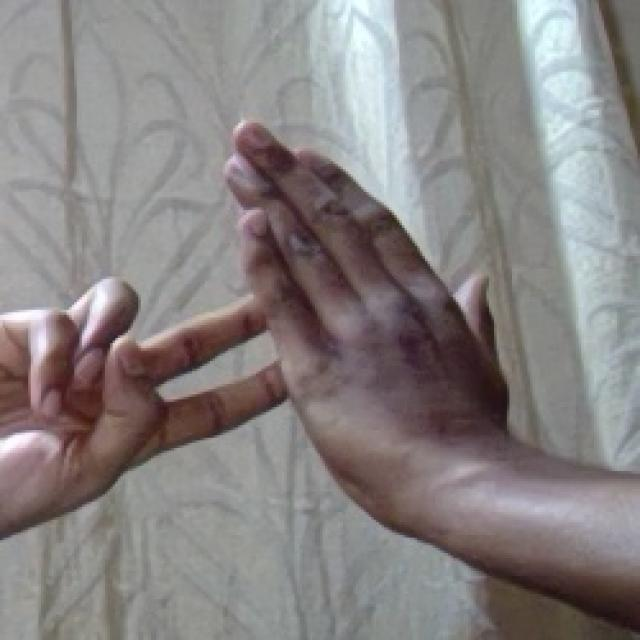Alphabet-N: (0, 102, 507, 525)
